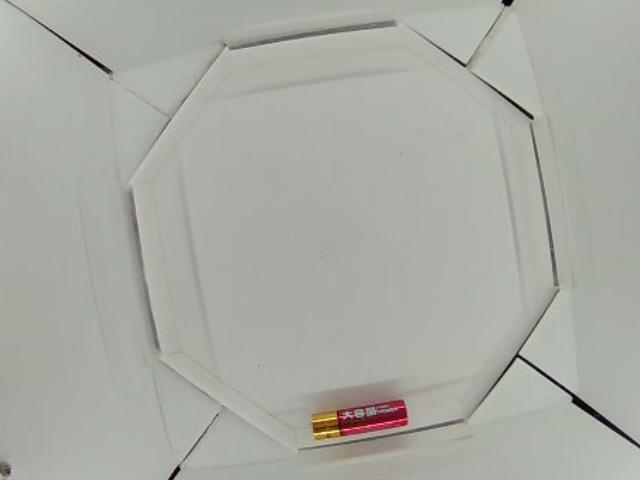Battery: (310, 398, 411, 443)
